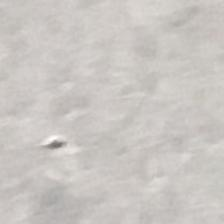Non_Crack: (15, 19, 224, 215)
